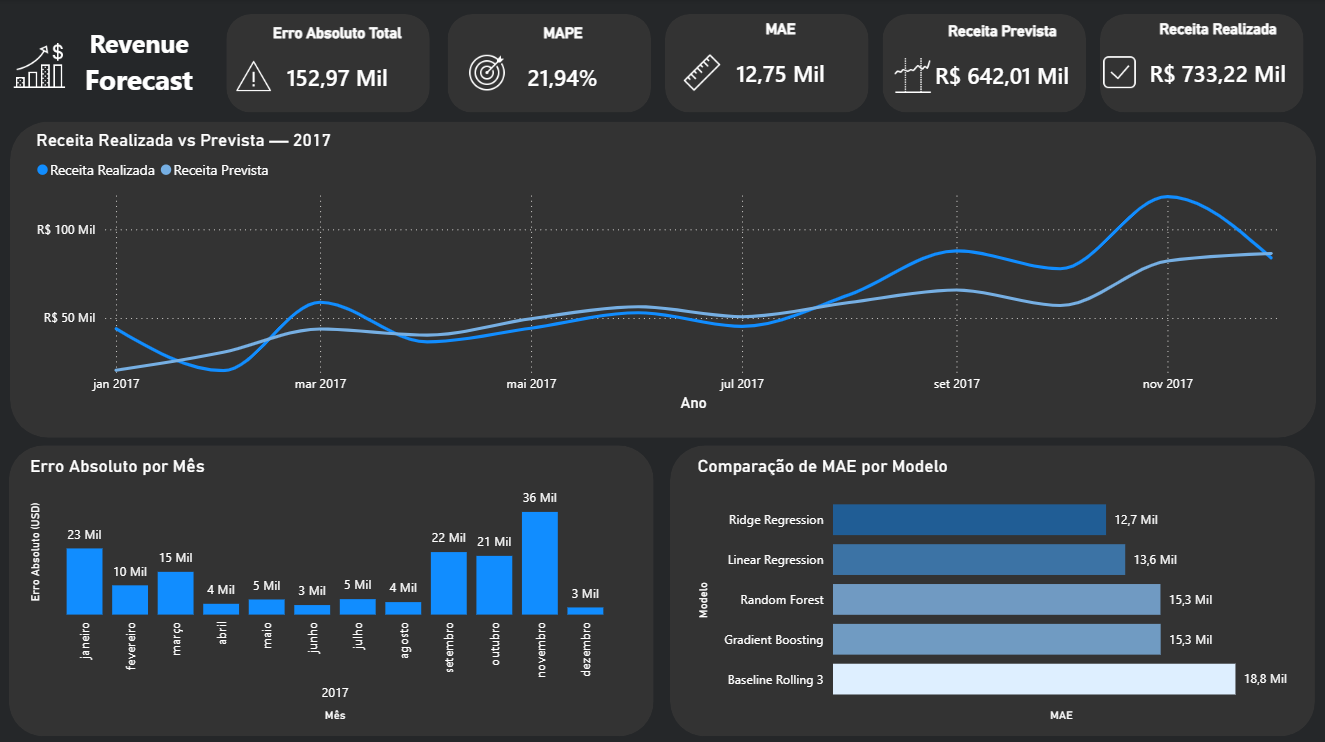

This screenshot's page, from the dashboard's own definition file:
{"tool":"powerbi","page":{"name":"Forecast Analysis","canvas":[1280,720],"ordinal":1},"visuals":[{"type":"shape","box":[1061.6,14.6,196.5,95.2],"z":0},{"type":"shape","box":[851.2,14.6,196.5,95.2],"z":1000},{"type":"shape","box":[641.6,14.6,196.5,95.2],"z":2000},{"type":"shape","box":[432.4,14.6,196.5,95.2],"z":3000},{"type":"image","box":[9.7,21.7,56.7,85.7],"z":4000},{"type":"textbox","box":[66.4,21.7,142.4,48.3],"z":5000},{"type":"textbox","box":[66.4,54.3,135.1,53.1],"z":6000},{"type":"shape","box":[218.4,14.6,196.5,95.2],"z":7000},{"type":"cardVisual","title":"MAE","fields":{"Data":["Medidas.MAE"]},"box":[668.4,20.5,170.1,84.5],"z":8000},{"type":"cardVisual","title":"MAPE","fields":{"Data":["Medidas.MAPE"]},"box":[470.5,24.1,146,84.5],"z":9000},{"type":"shape","box":[9.7,118.2,1260.7,305.2],"z":10000},{"type":"shape","box":[8.4,430.7,622.5,281.1],"z":11000},{"type":"shape","box":[646.7,430.7,622.5,281.1],"z":12000},{"type":"lineChart","title":"Receita Realizada vs Prevista — 2017","fields":{"Y":["Medidas.Receita Realizada","Medidas.Receita Prevista"],"Category":["forecast_results.month_start.Variation.Hierarquia de datas.Ano","forecast_results.month_start.Variation.Hierarquia de datas.Trimestre","forecast_results.month_start.Variation.Hierarquia de datas.Mês","forecast_results.month_start.Variation.Hierarquia de datas.Dia"]},"box":[30.2,125.5,1227,277.5],"z":13000},{"type":"cardVisual","title":"Erro Absoluto Total","fields":{"Data":["Medidas.Erro Absoluto Total"]},"box":[236.7,24.4,178.2,83],"z":14000},{"type":"cardVisual","title":"Receita Prevista","fields":{"Data":["Medidas.Receita Prevista"]},"box":[862.6,21.7,209.9,84.5],"z":15000},{"type":"cardVisual","title":"Receita Realizada","fields":{"Data":["Medidas.Receita Realizada"]},"box":[1071.3,20.5,208.7,84.5],"z":16000},{"type":"columnChart","title":"Erro Absoluto por Mês","fields":{"Y":["Medidas.Erro Absoluto Total"],"Category":["forecast_results.month_start.Variation.Hierarquia de datas.Ano","forecast_results.month_start.Variation.Hierarquia de datas.Mês"]},"box":[24.1,440.4,581.5,261.8],"z":17000},{"type":"clusteredBarChart","title":"Comparação de MAE por Modelo","fields":{"Category":["model_comparison.model_name"],"Y":["Medidas.MAE"]},"box":[668.7,440.5,582,262.3],"z":18000},{"type":"image","box":[228,44.6,33.8,59.1],"z":19000},{"type":"image","box":[451.2,45.8,37.4,50.7],"z":20000},{"type":"image","box":[658.7,45.8,37.4,50.7],"z":21000},{"type":"image","box":[862.6,50.7,37.4,45.8],"z":21001},{"type":"image","box":[1061.7,50.7,37.4,39.8],"z":21002}]}

Visuals, with their boxes in screenshot pixels (x1, y1, x2, y2), scaled from the page's 1280x720 canvas onto the 1325x742 screenshot:
shape: (1099,15,1302,113)
shape: (881,15,1085,113)
shape: (664,15,868,113)
shape: (448,15,651,113)
image: (10,22,69,111)
textbox: (69,22,216,72)
textbox: (69,56,209,111)
shape: (226,15,429,113)
"MAE" cardVisual: (692,21,868,108)
"MAPE" cardVisual: (487,25,638,112)
shape: (10,122,1315,436)
shape: (9,444,653,734)
shape: (669,444,1314,734)
"Receita Realizada vs Prevista — 2017" lineChart: (31,129,1301,415)
"Erro Absoluto Total" cardVisual: (245,25,429,111)
"Receita Prevista" cardVisual: (893,22,1110,109)
"Receita Realizada" cardVisual: (1109,21,1324,108)
"Erro Absoluto por Mês" columnChart: (25,454,627,724)
"Comparação de MAE por Modelo" clusteredBarChart: (692,454,1295,724)
image: (236,46,271,107)
image: (467,47,506,99)
image: (682,47,721,99)
image: (893,52,932,99)
image: (1099,52,1138,93)
